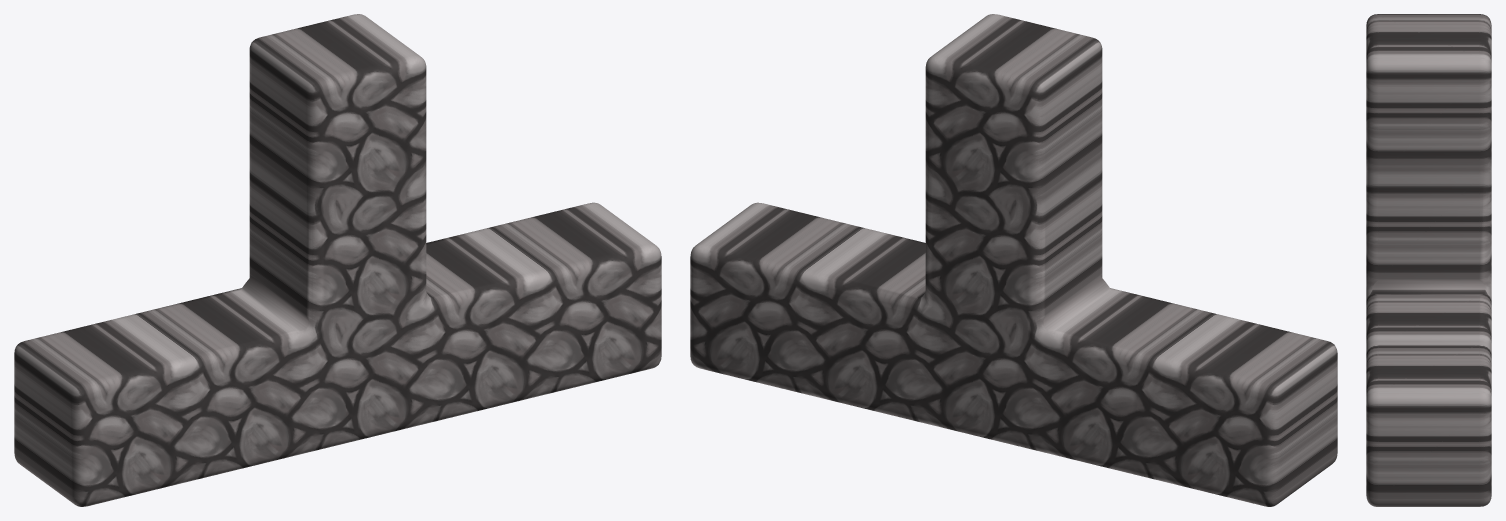
The model's file is big_T_block.FBX.
3 views of the same model, side by side, from view 1: azimuth 30°, elevation 25°; view 2: azimuth 150°, elevation 25°; view 3: azimuth 270°, elevation 25° (orthographic). The views are drawn at different scales.
Parts seen in each view (by area): view 1: Box001; view 2: Box001; view 3: Box001.
Part boxes in pixels (x1,y1,x2,y2): Box001: (14,14,661,506); Box001: (690,14,1337,506); Box001: (1366,14,1491,506).
Bounding box in the file's own units: 5 × 3 × 1.
